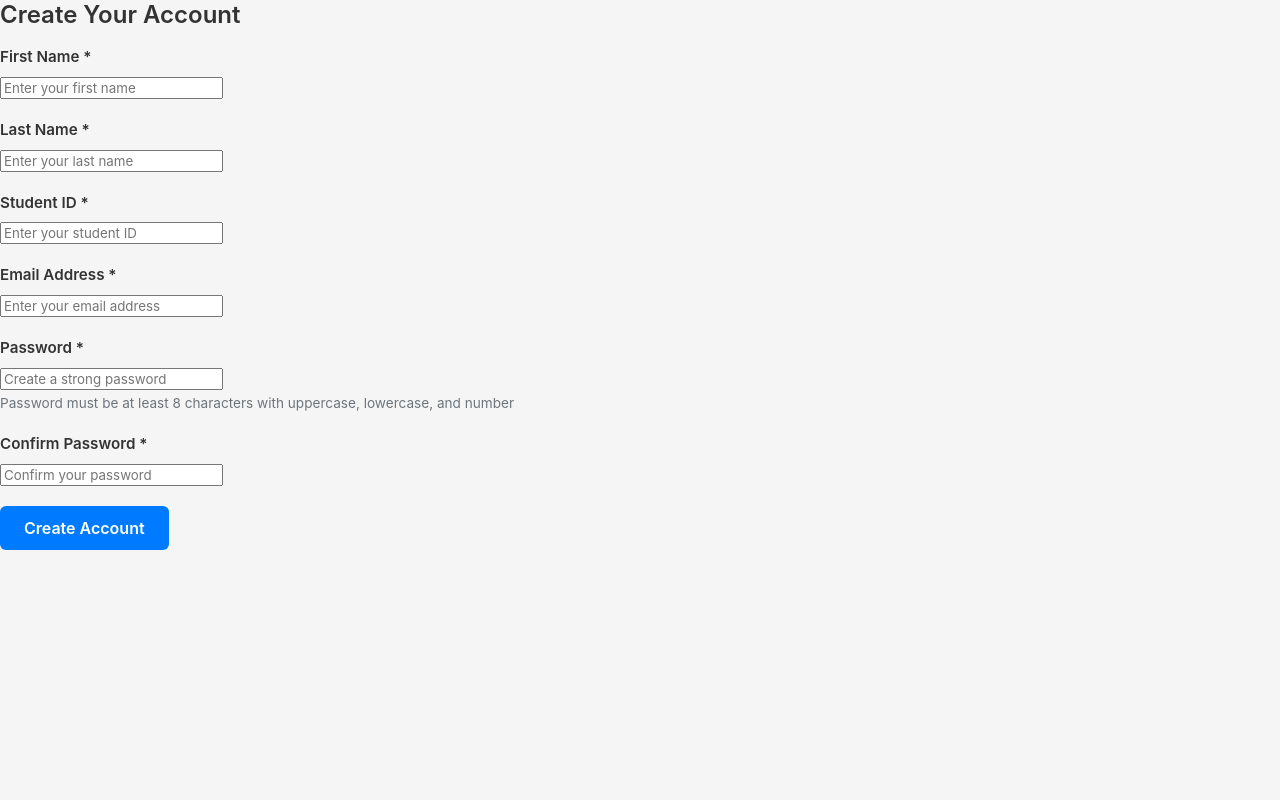
RegisterForm › clears field errors when user starts typing
The width and height of the screenshot is (1280, 800).
// Trigger validation error
Click the button "Create Account" at (84, 528), box [0,506,169,550]
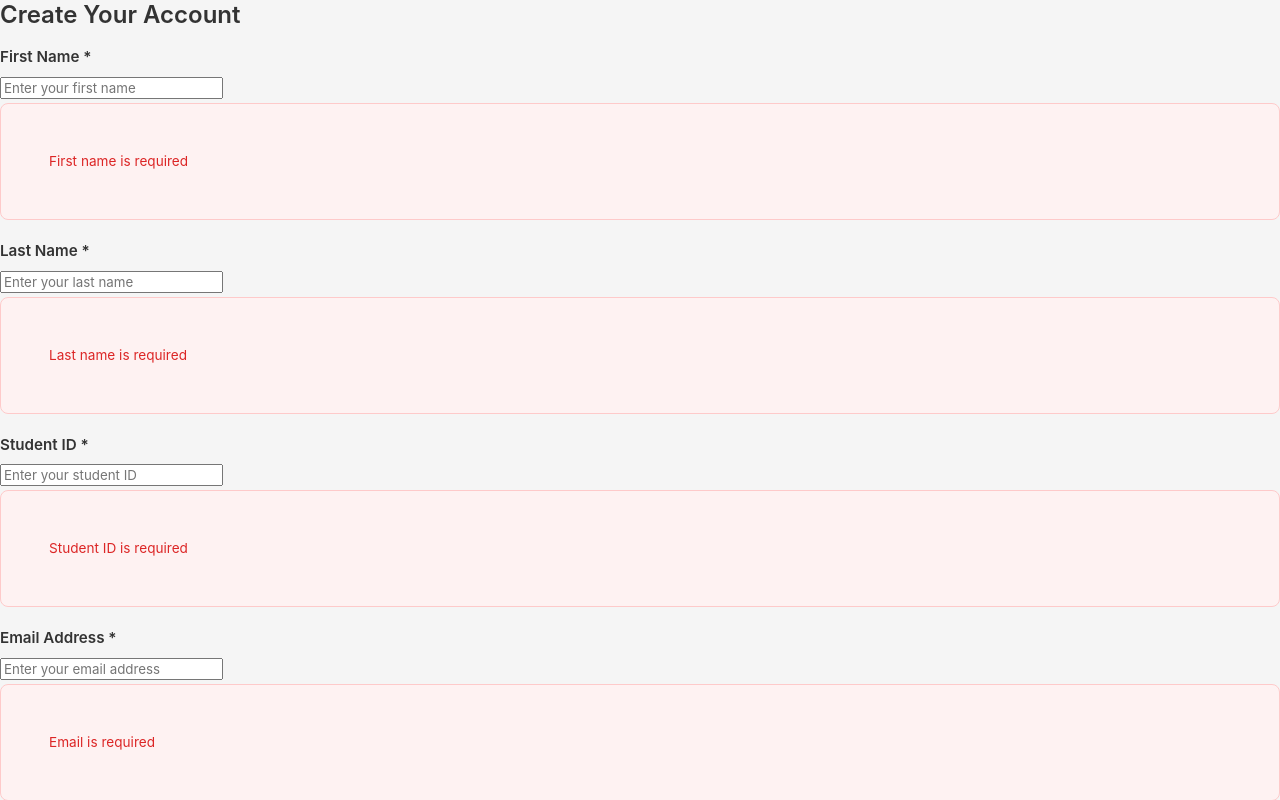
Check: the text "First name is required" is shown, box [0,103,1279,220]
// Start typing to clear error
Type "John" into the field labelled "First Name *" at (112, 88), box [0,77,223,99]
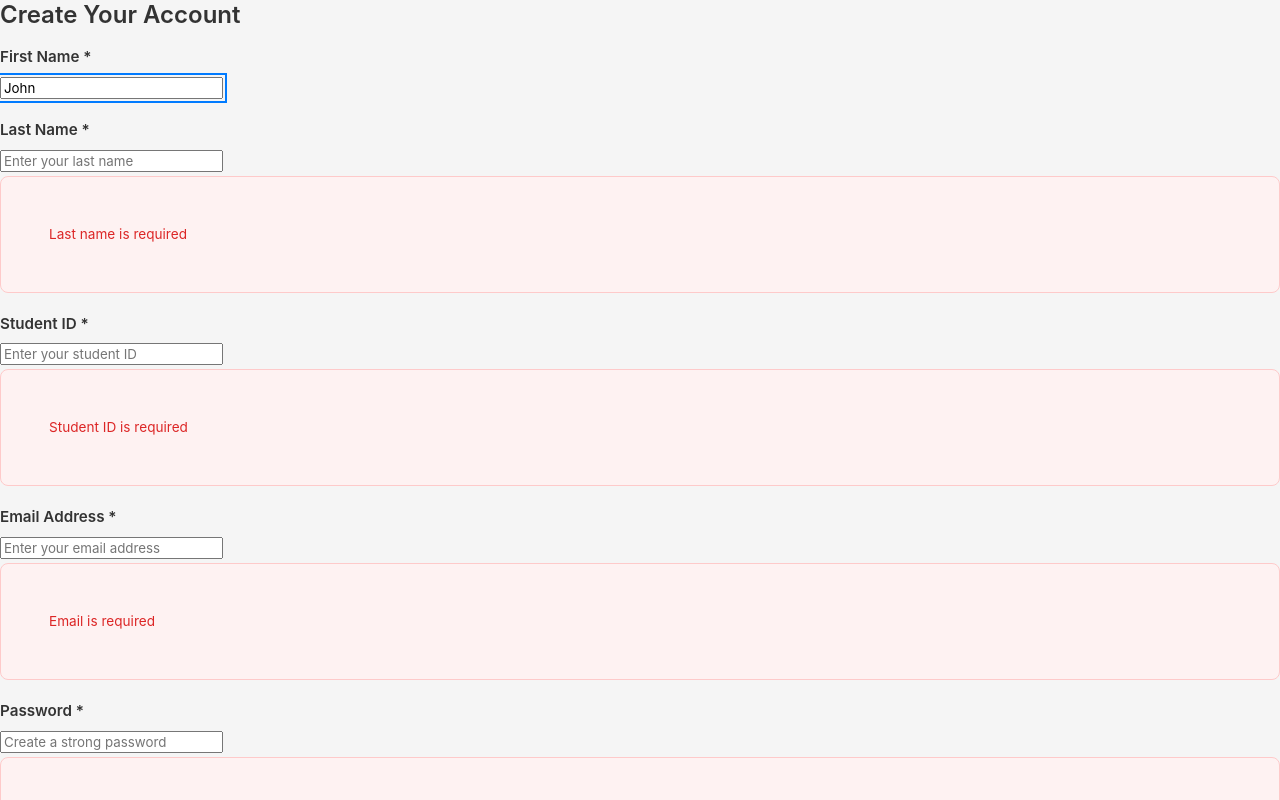
Check: the text "First name is required" is gone
